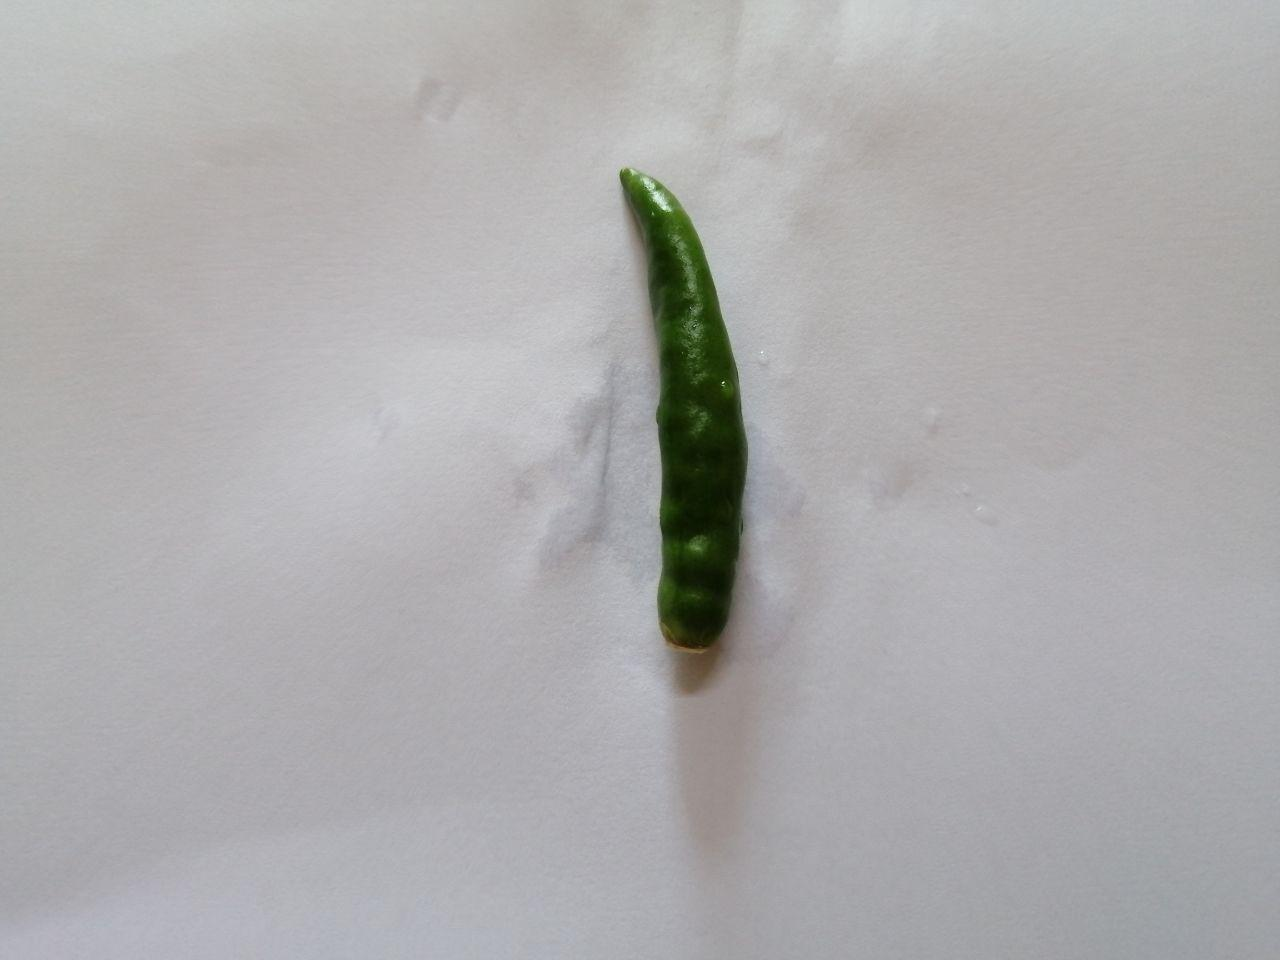lada hijau: (590, 143, 775, 665)
